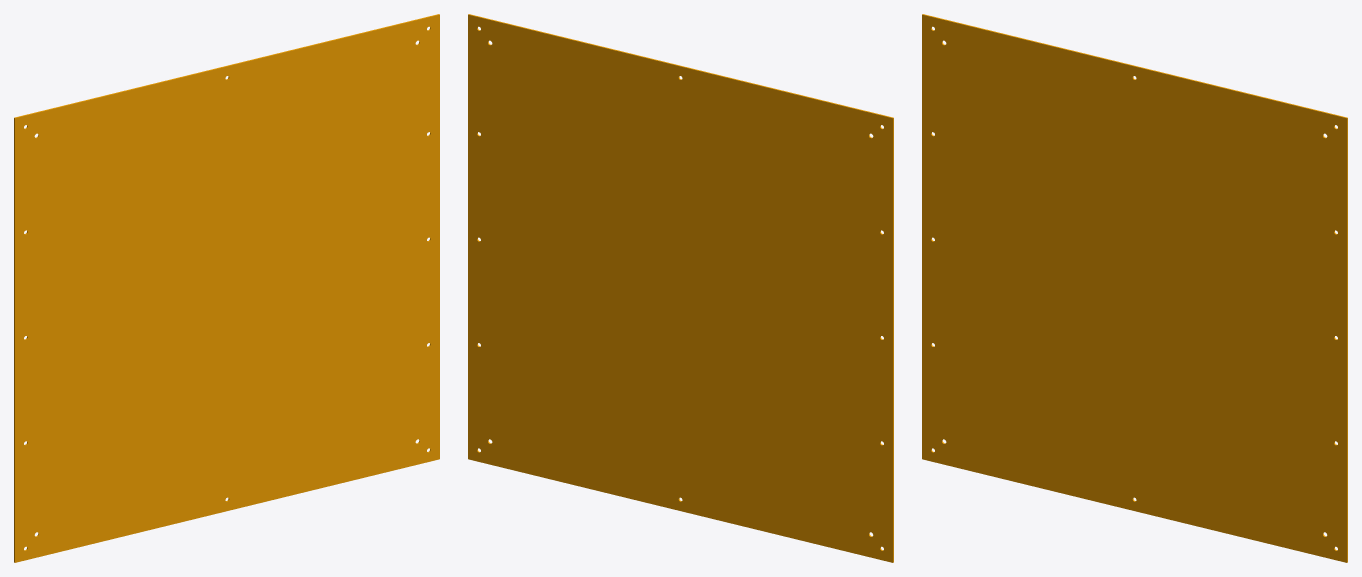
File: shell_skid_plate.glb
3 views of the same model, side by side, from view 1: azimuth 30°, elevation 25°; view 2: azimuth 150°, elevation 25°; view 3: azimuth 330°, elevation 25° (orthographic).
Visible parts, largest first — view 1: skid_plate-diff-diff; view 2: skid_plate-diff-diff; view 3: skid_plate-diff-diff.
Boxes of the visible parts, x1,y1,x2,y2 form: skid_plate-diff-diff: (14,14,439,562); skid_plate-diff-diff: (468,14,893,562); skid_plate-diff-diff: (922,14,1347,562).
Bounding box in the file's own units: 580 × 580 × 2.
